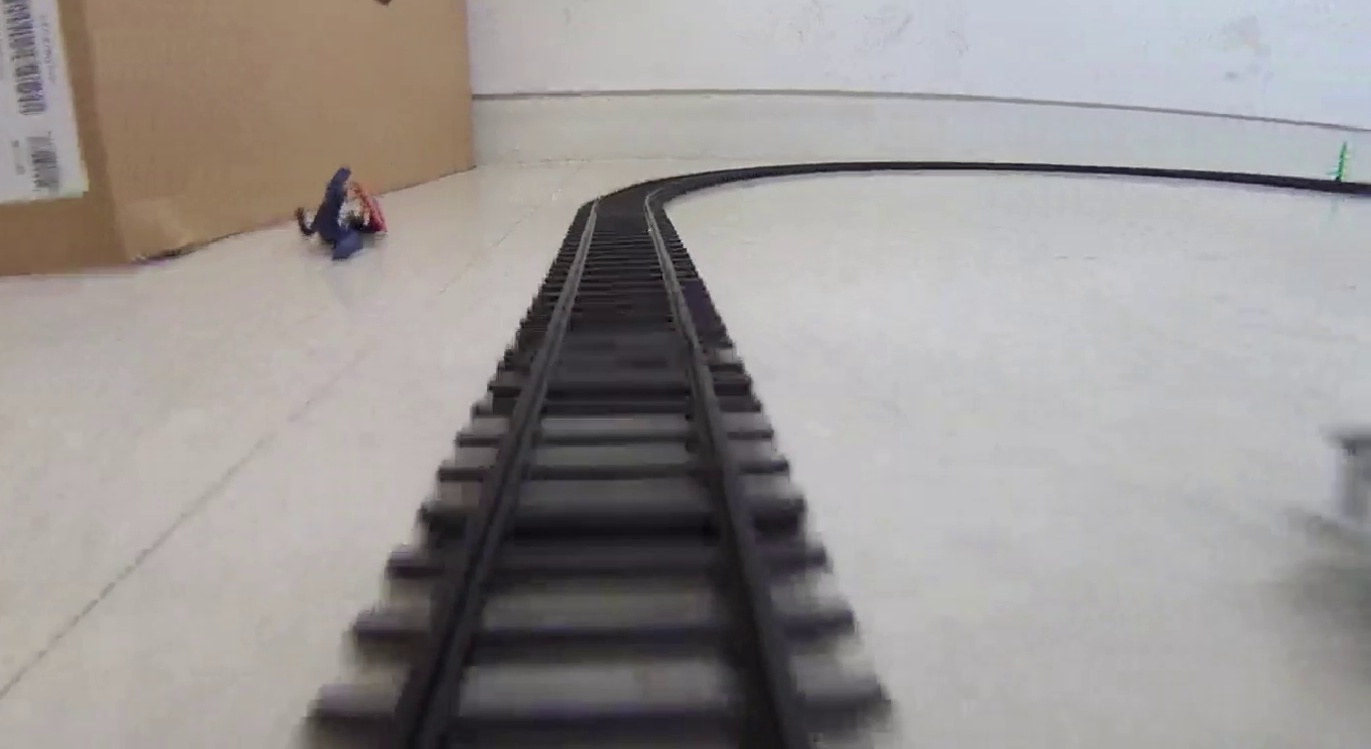people: (297, 167, 390, 260)
